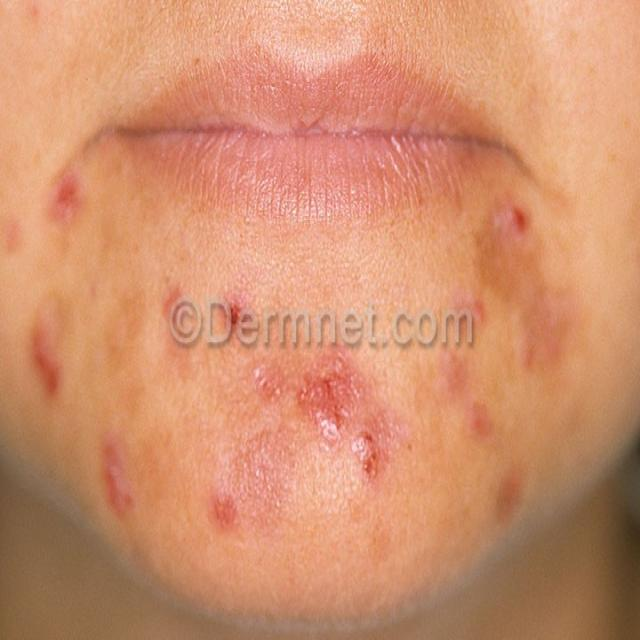acne: (176, 255, 538, 568), (36, 158, 147, 552), (495, 191, 592, 380)
